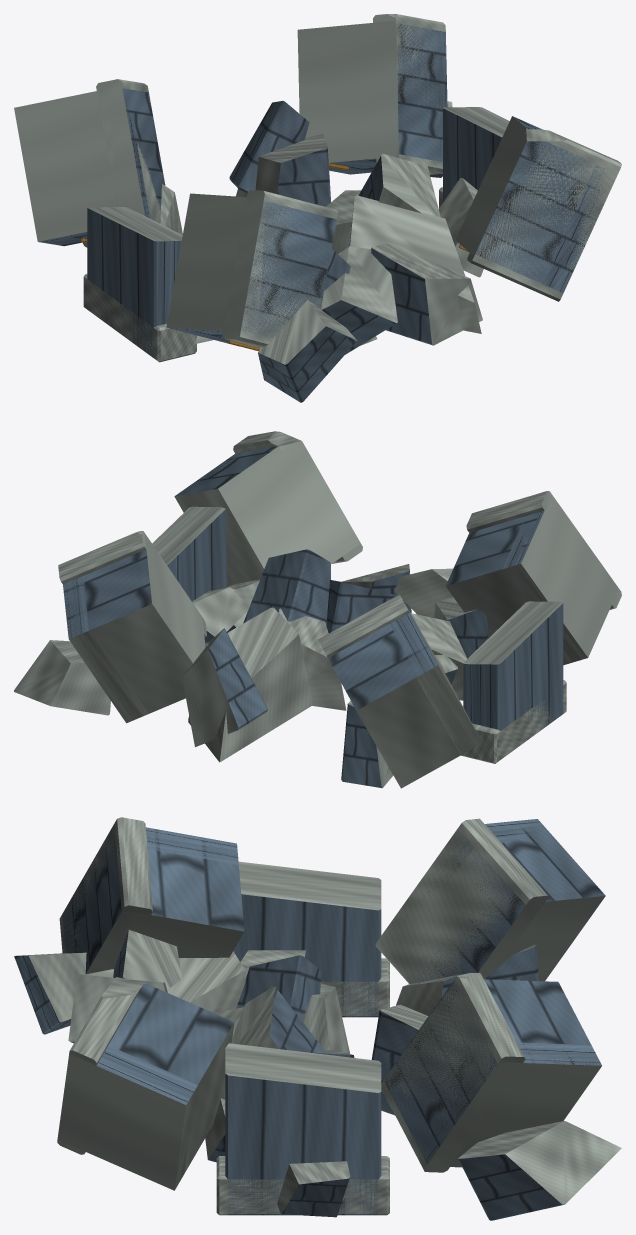
The model's file is gate_ruins.glb.
3 renders of one model, top to bottom at view 1: azimuth 30°, elevation 25°; view 2: azimuth 150°, elevation 25°; view 3: azimuth 270°, elevation 25°, orthographic. The views are drawn at different scales.
Parts seen in each view (by area): view 1: RuinedArchitecture; view 2: RuinedArchitecture; view 3: RuinedArchitecture.
Boxes of the visible parts, x1,y1,x2,y2 form: RuinedArchitecture: [14, 14, 621, 402]; RuinedArchitecture: [14, 431, 621, 788]; RuinedArchitecture: [14, 817, 621, 1220].
Bounding box in the file's own units: 13.63 × 5.46 × 14.03.
1 material, 1 textured.
